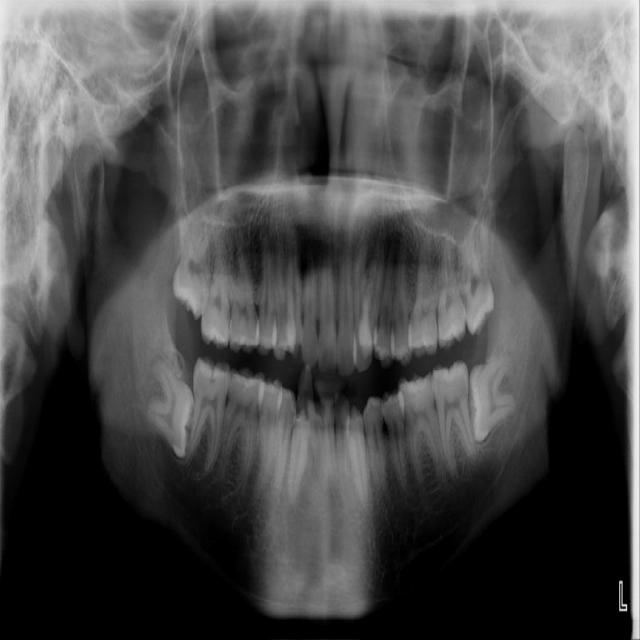impacted tooth: (138, 358, 194, 460), (469, 354, 524, 440), (173, 202, 209, 316)
